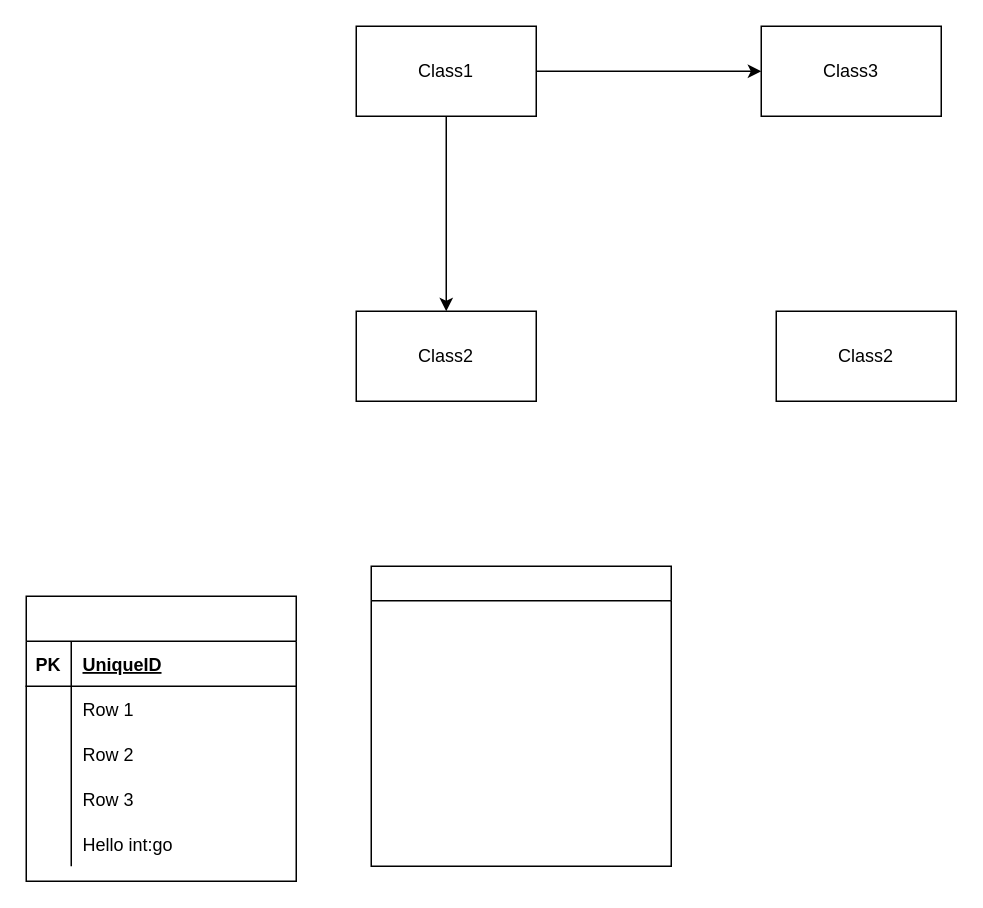
Image size: 983x908. Some labels were removed from this diagram. Here are the shapes that lost their labels. From the top down, the box of each, then its label:
(370, 565, 671, 866): Vertical Container
(25, 595, 296, 881): Table
